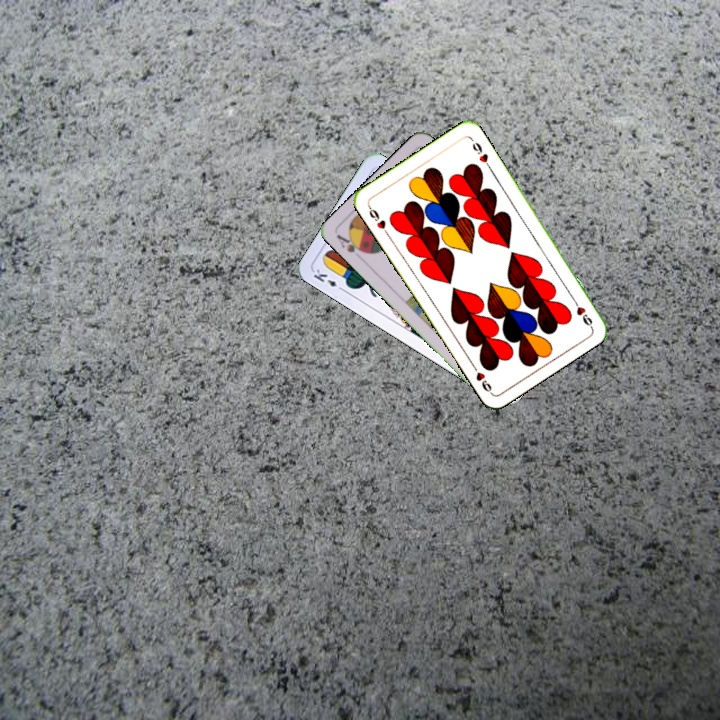EK: (309, 265, 347, 294)
H9: (364, 201, 391, 238), (568, 293, 595, 330)
SA: (332, 230, 370, 257)
